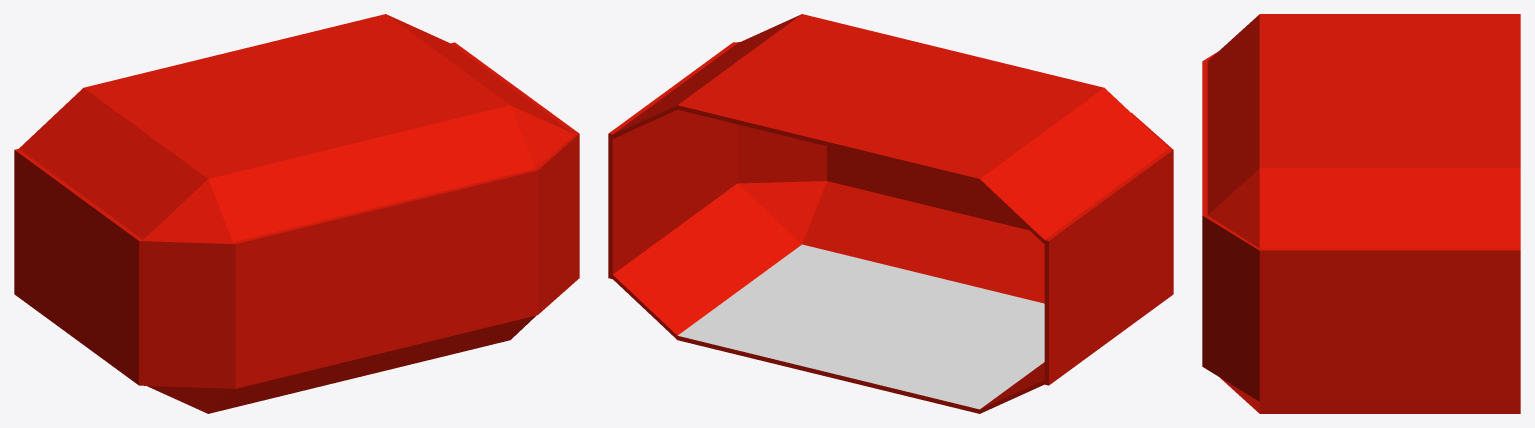
The model's file is InitBase.fbx.
3 views of the same model, side by side, from view 1: azimuth 30°, elevation 25°; view 2: azimuth 150°, elevation 25°; view 3: azimuth 270°, elevation 25° (orthographic). The views are drawn at different scales.
Visible parts, largest first — view 1: InitBase; view 2: InitBase; view 3: InitBase.
Boxes of the visible parts, x1,y1,x2,y2 form: InitBase: [14, 14, 579, 413]; InitBase: [608, 14, 1173, 413]; InitBase: [1202, 14, 1520, 413].
Size of the model in its own units: 2040 by 1040 by 1220.
